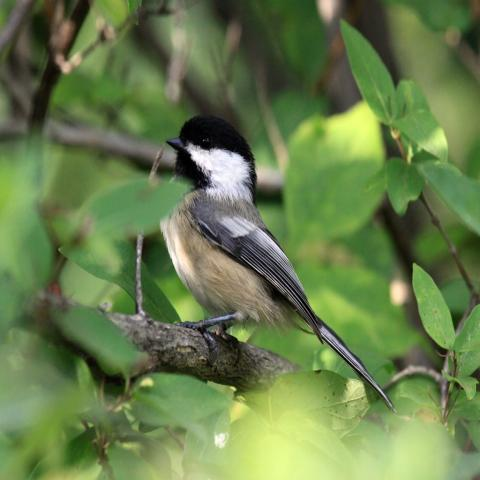bird: (157, 111, 398, 415)
